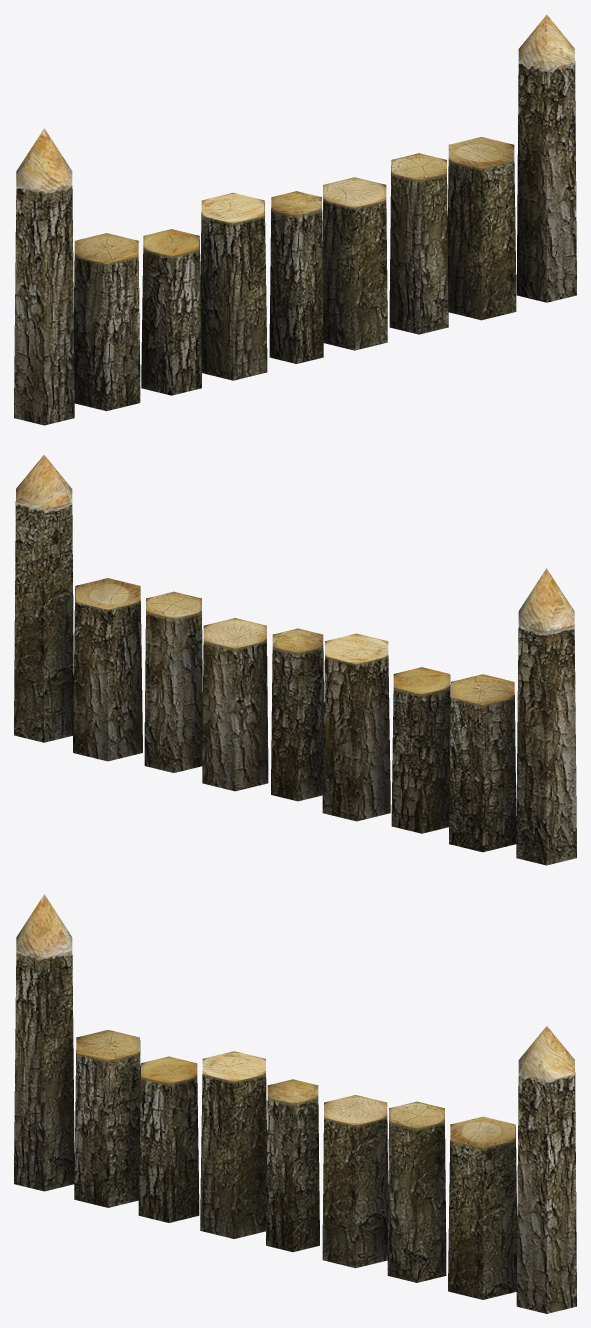
The model's file is Wooden_Wall_Fence_01_low.FBX.
3 views of the same model, one above another, from view 1: azimuth 30°, elevation 25°; view 2: azimuth 150°, elevation 25°; view 3: azimuth 330°, elevation 25° (orthographic).
Parts seen in each view (by area): view 1: Wooden_Wall_Fence_01_low; view 2: Wooden_Wall_Fence_01_low; view 3: Wooden_Wall_Fence_01_low.
Boxes of the visible parts, x1,y1,x2,y2 form: Wooden_Wall_Fence_01_low: (14,15,576,425); Wooden_Wall_Fence_01_low: (14,455,576,865); Wooden_Wall_Fence_01_low: (14,894,576,1313).
Size of the model in its own units: 24.78 by 11.89 by 2.66.
1 material, 1 textured.
